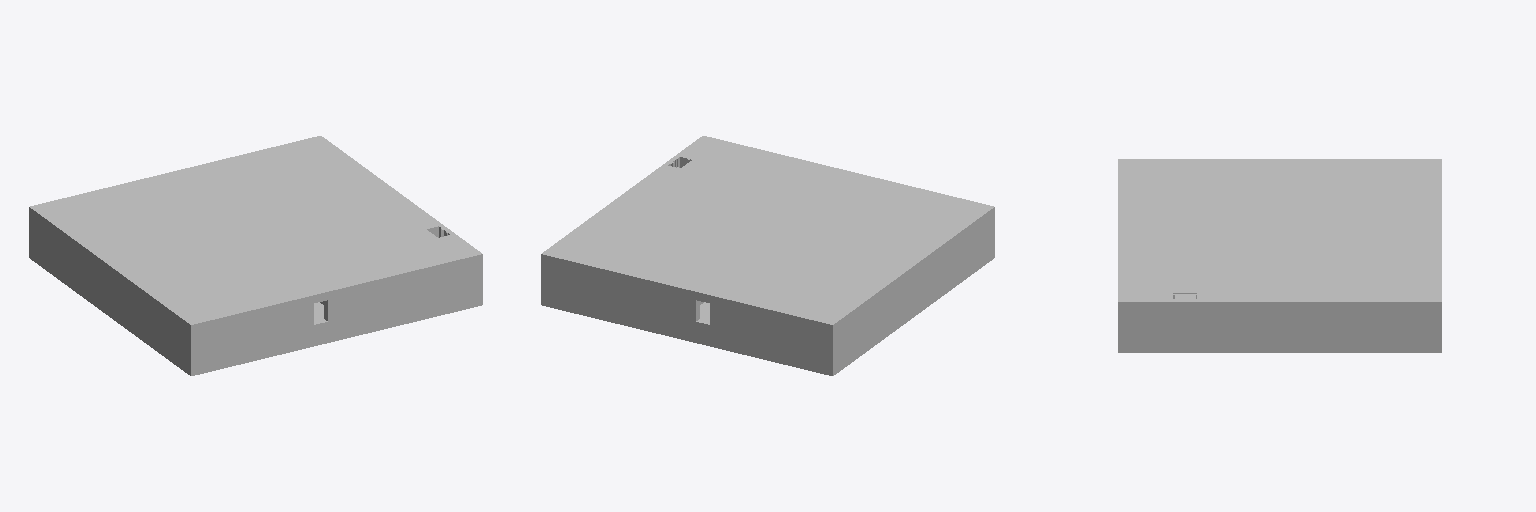
File: maze_roof 1.obj
The picture shows the model from 3 angles: view 1: azimuth 30°, elevation 25°; view 2: azimuth 150°, elevation 25°; view 3: azimuth 270°, elevation 25°; orthographic projection.
Visible parts, largest first — view 1: object 1; view 2: object 1; view 3: object 1.
Boxes of the visible parts, <box> form: object 1: <box>29,136,482,375</box>; object 1: <box>541,136,994,375</box>; object 1: <box>1118,159,1441,352</box>.
Size of the model in its own units: 25.6 by 4.3 by 24.6.